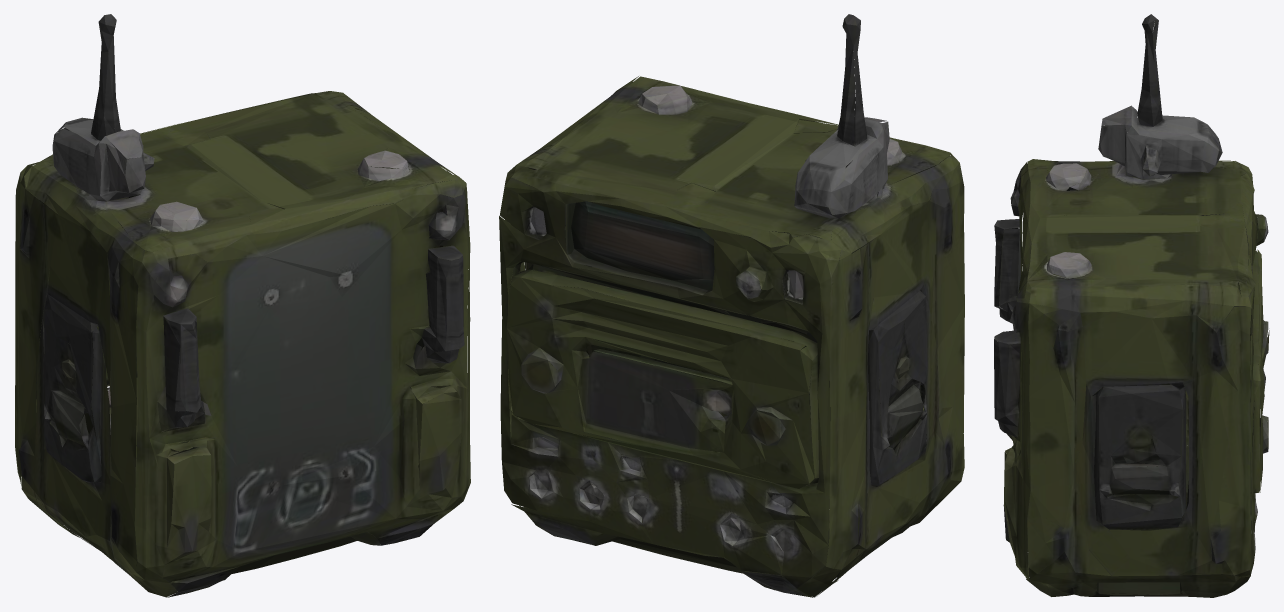
The model's file is console.glb.
3 renders of one model, left to right at view 1: azimuth 30°, elevation 25°; view 2: azimuth 150°, elevation 25°; view 3: azimuth 270°, elevation 25°, orthographic. The views are drawn at different scales.
Visible parts, largest first — view 1: world; view 2: world; view 3: world.
Boxes of the visible parts, box(x1,y1,x2,y2) form: world: box(15, 14, 470, 597); world: box(499, 14, 964, 597); world: box(994, 14, 1269, 597).
Bounding box in the file's own units: 0.6792 × 1 × 0.5265.
Materials: 1 (1 with a texture image).
